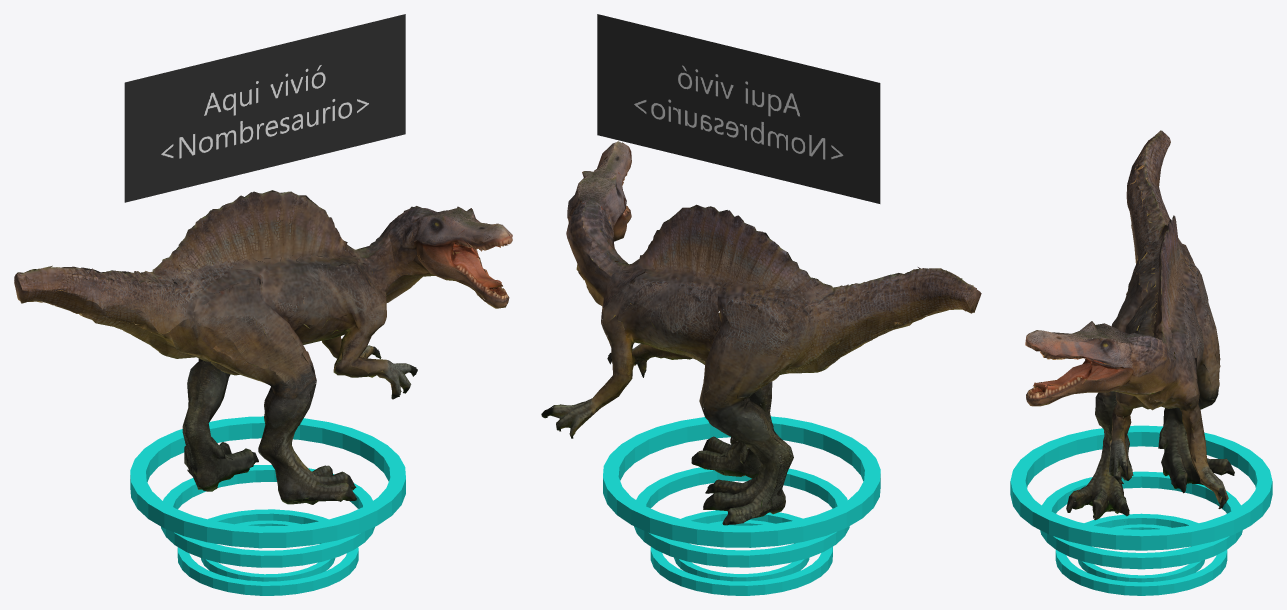
Rendered from dino4.glb.
The picture shows the model from 3 angles, left to right: view 1: azimuth 30°, elevation 25°; view 2: azimuth 150°, elevation 25°; view 3: azimuth 270°, elevation 25°; orthographic projection. The views are drawn at different scales.
Parts seen in each view (by area): view 1: dino med, Plane, Cylinder; view 2: dino med, Plane, Cylinder; view 3: dino med, Cylinder.
Boxes of the visible parts, left/top/right/bottom form: dino med: left=14, top=190, right=512, bottom=504; Plane: left=124, top=14, right=405, bottom=202; Cylinder: left=130, top=416, right=405, bottom=595; dino med: left=541, top=141, right=981, bottom=525; Plane: left=597, top=14, right=880, bottom=203; Cylinder: left=603, top=416, right=880, bottom=595; dino med: left=1025, top=130, right=1234, bottom=520; Cylinder: left=1010, top=425, right=1272, bottom=595.
Bounding box in the file's own units: 0.4834 × 0.5432 × 0.2683.
Materials: 4 (3 with a texture image).
